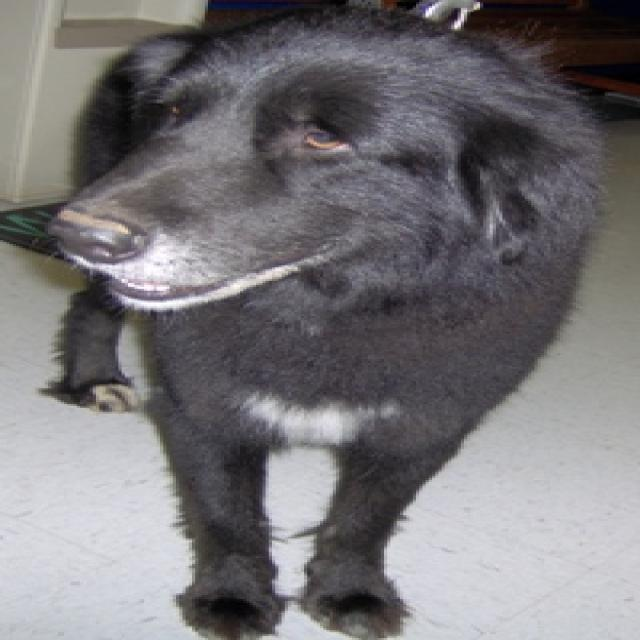Dogs: (38, 2, 608, 638)
